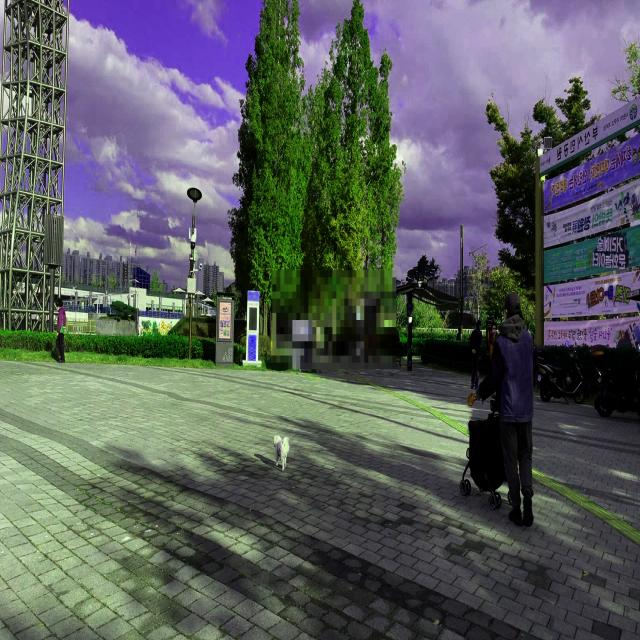Leashed_Dog: (272, 378, 507, 472)
